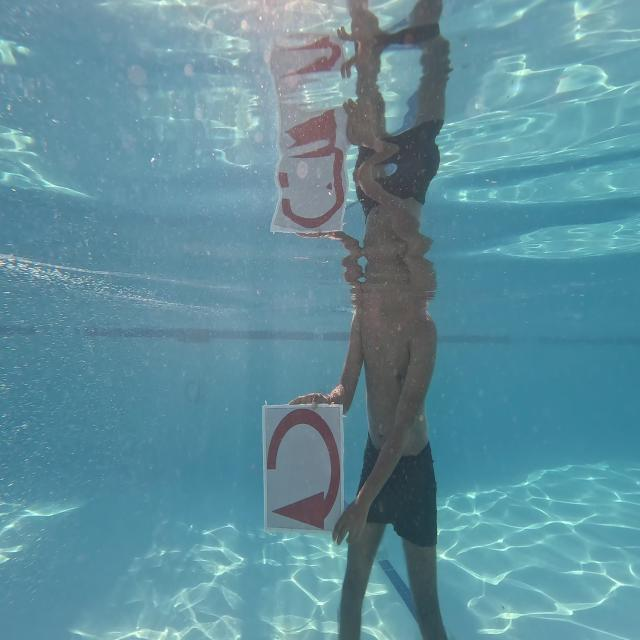red_side: (254, 394, 351, 547)
